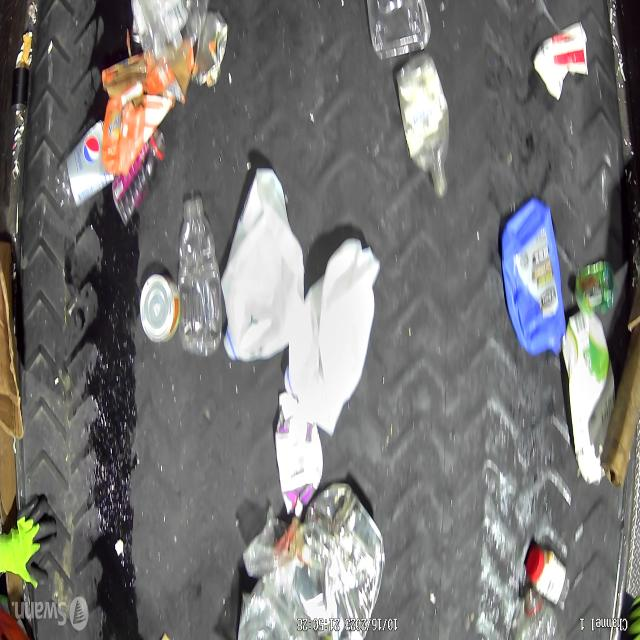can: (292, 479, 385, 640), (138, 270, 180, 345), (192, 8, 229, 90)
milk_jug: (283, 233, 381, 439), (219, 166, 307, 365)
non_white_jug: (497, 194, 568, 360)
plastic_bottle: (393, 48, 454, 198), (176, 193, 222, 358), (109, 128, 168, 228)
